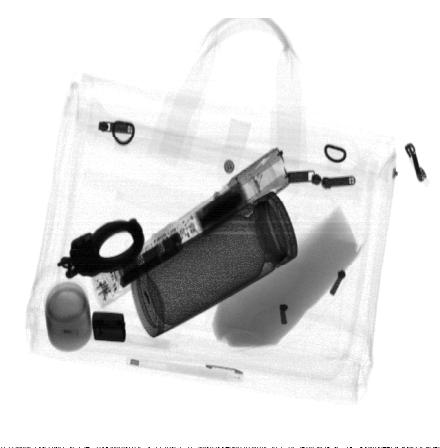Baton: (91, 148, 289, 310)
HandCuffs: (56, 217, 147, 280)
Lighter: (91, 313, 127, 342)
